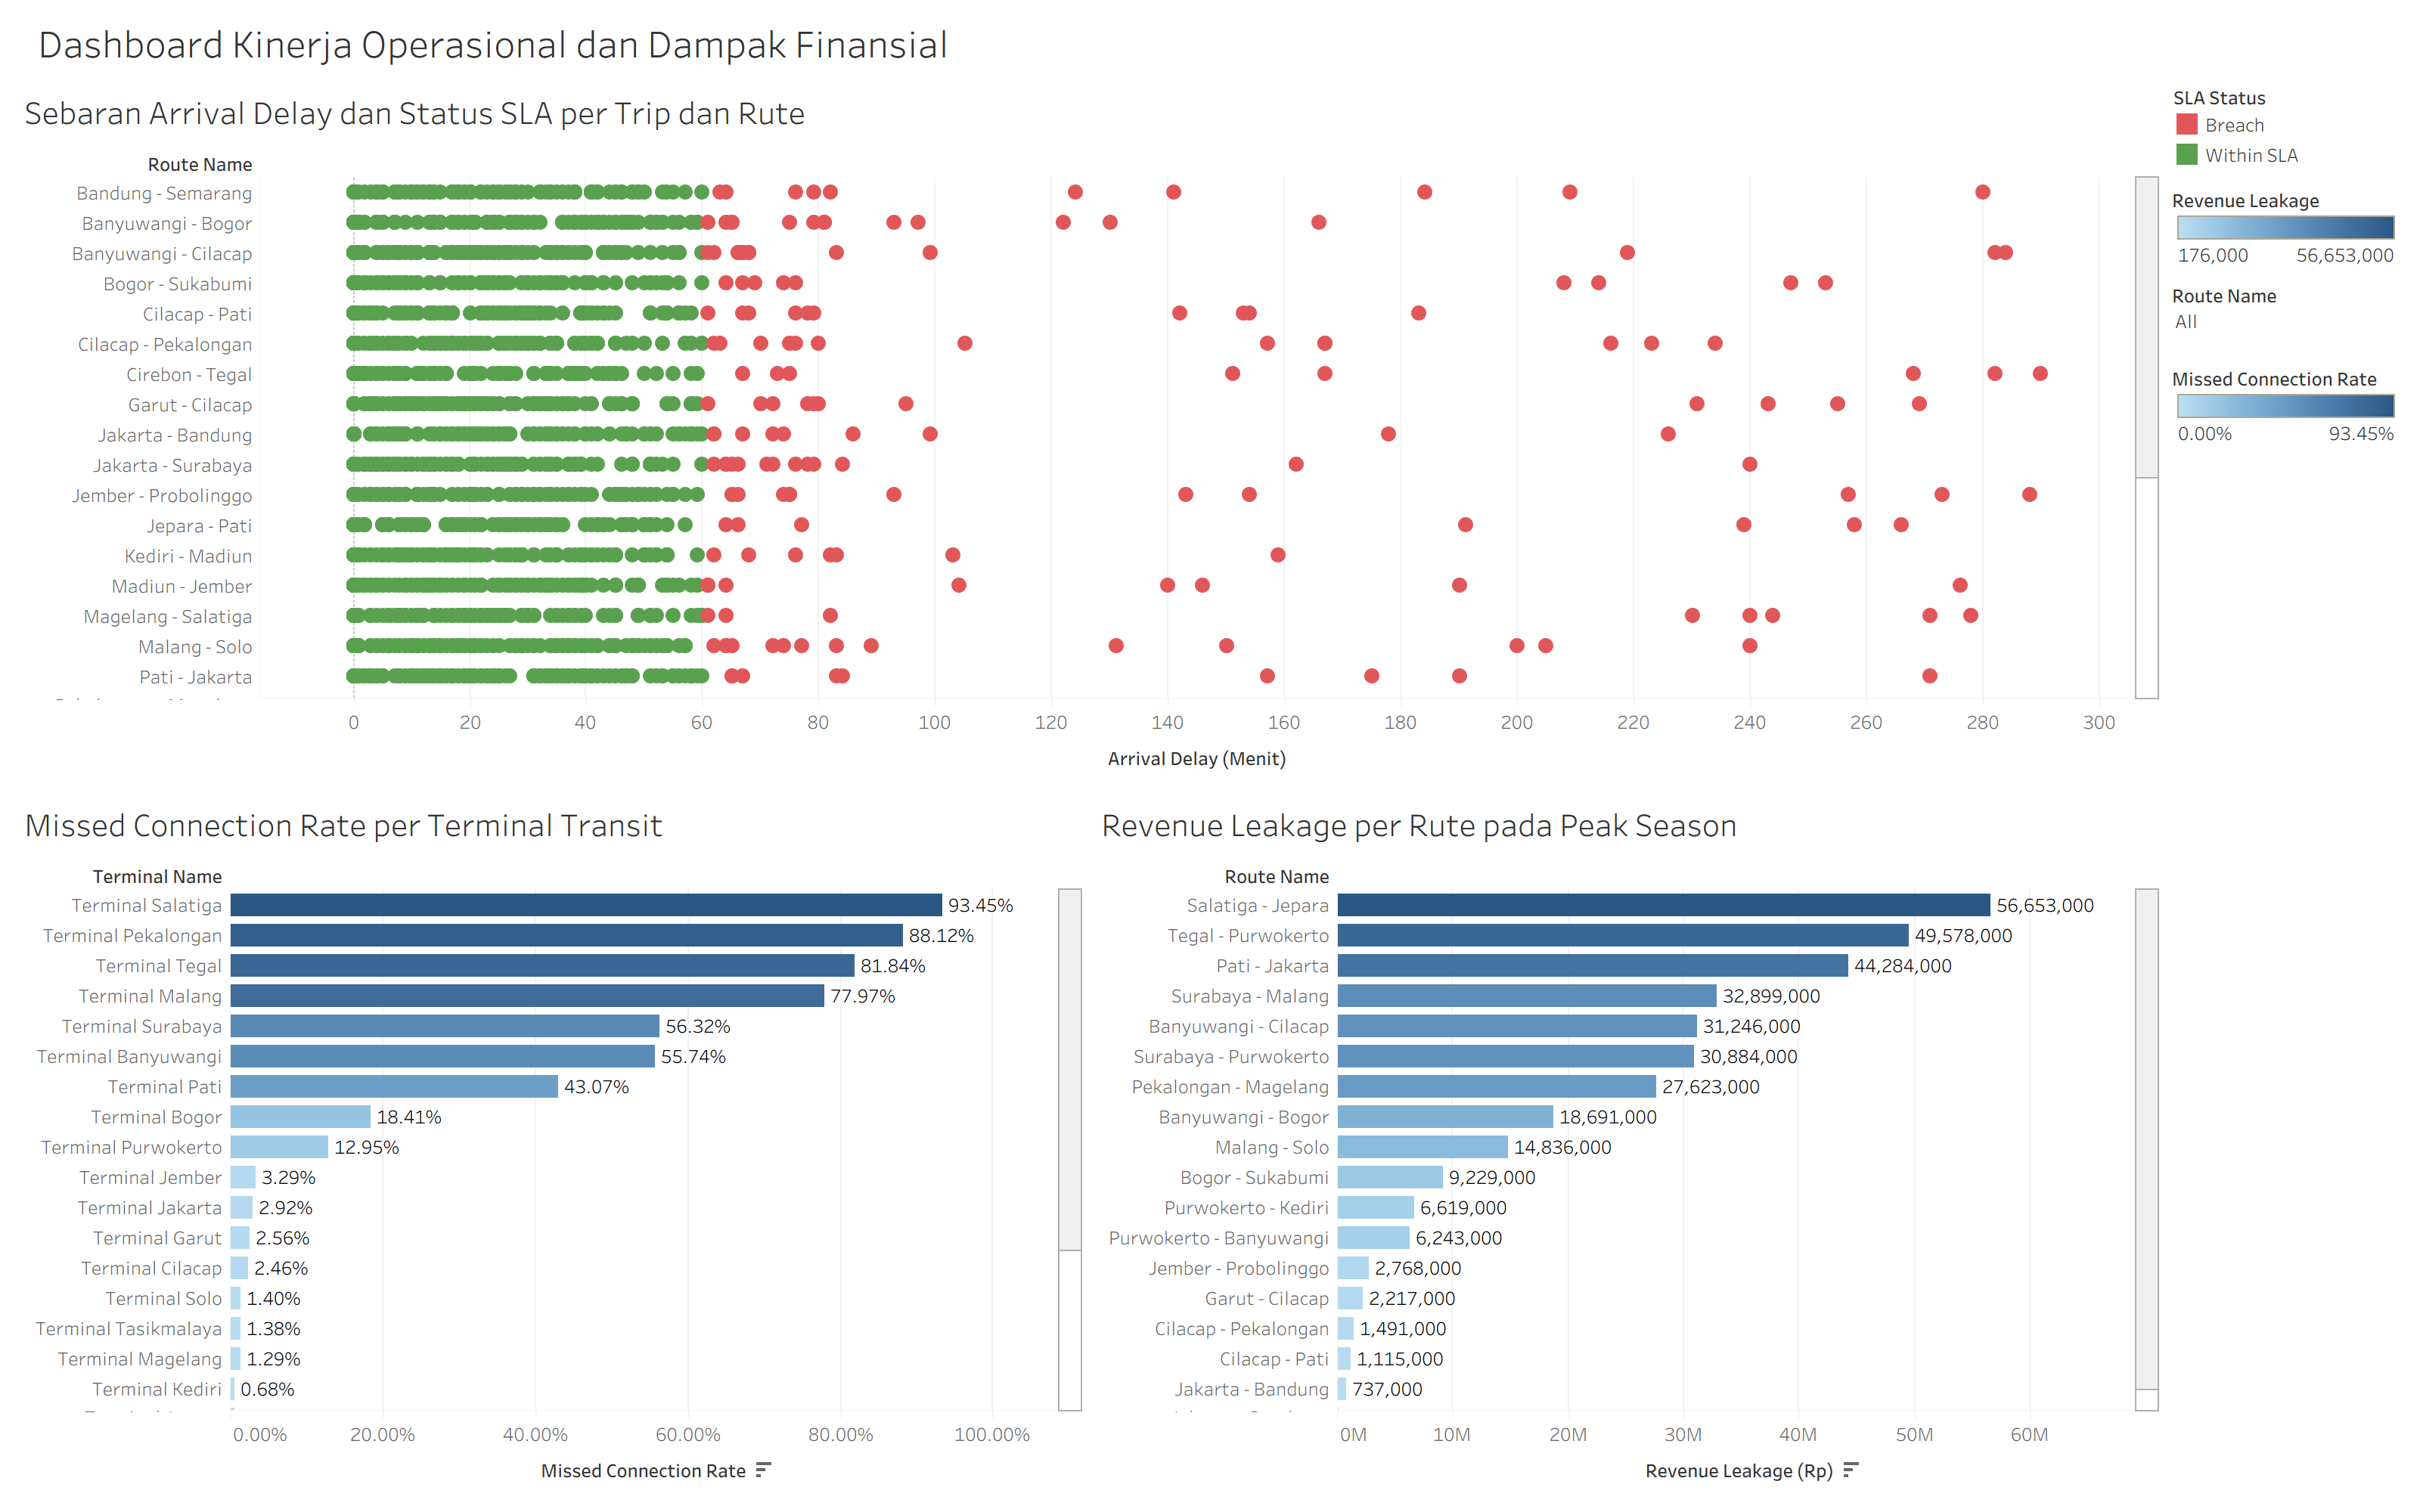

What the dashboard file says about the page in this screenshot:
{"tool":"tableau","page":{"name":"  Dashboard Kinerja Operasional dan Dampak Finansial","canvas":[1600,1000],"ordinal":0},"visuals":[{"type":"title","box":[8,8,1584,42]},{"type":"worksheet","title":"Sebaran Arrival Delay dan Status SLA per Trip dan Rute","mark":"Circle","rows":["route_name"],"cols":["arrival_delay_minutes"],"box":[8,50,1424,471]},{"type":"legend","title":"Sebaran Arrival Delay dan Status SLA per Trip dan Rute","param":"[federated.19cu8200xzto5115rusey18to14h].[none:Calculation_0710322716229633:nk]","box":[1432,50,160,66]},{"type":"legend","title":"Revenue Leakage per Rute pada Peak Season","param":"[federated.19cu8200xzto5115rusey18to14h].[sum:Calculation_0710322725830661:qk]","box":[1432,116,160,65]},{"type":"filter","title":"Missed Connection Rate per Terminal Transit","param":"[federated.19cu8200xzto5115rusey18to14h].[none:route_name:nk]","box":[1432,181,160,52]},{"type":"legend","title":"Missed Connection Rate per Terminal Transit","param":"[federated.19cu8200xzto5115rusey18to14h].[usr:Calculation_0710322721628162:qk]","box":[1432,233,160,65]},{"type":"worksheet","title":"Missed Connection Rate per Terminal Transit","mark":"Bar","rows":["terminal_name"],"cols":["Calculation_0710322721628162"],"box":[8,521,712,471]},{"type":"worksheet","title":"Revenue Leakage per Rute pada Peak Season","mark":"Bar","rows":["route_name"],"cols":["Calculation_0710322725830661"],"box":[720,521,712,471]}]}

Visuals, with their boxes in screenshot pixels (x1, y1, x2, y2), scaled from the page's 1600x1000 canvas onto the 2420x1512 screenshot:
title: (12, 12, 2408, 76)
"Sebaran Arrival Delay dan Status SLA per Trip dan Rute" worksheet (Circle marks): (12, 76, 2166, 788)
"Sebaran Arrival Delay dan Status SLA per Trip dan Rute" legend: (2166, 76, 2408, 175)
"Revenue Leakage per Rute pada Peak Season" legend: (2166, 175, 2408, 274)
"Missed Connection Rate per Terminal Transit" filter: (2166, 274, 2408, 352)
"Missed Connection Rate per Terminal Transit" legend: (2166, 352, 2408, 451)
"Missed Connection Rate per Terminal Transit" worksheet (Bar marks): (12, 788, 1089, 1500)
"Revenue Leakage per Rute pada Peak Season" worksheet (Bar marks): (1089, 788, 2166, 1500)
